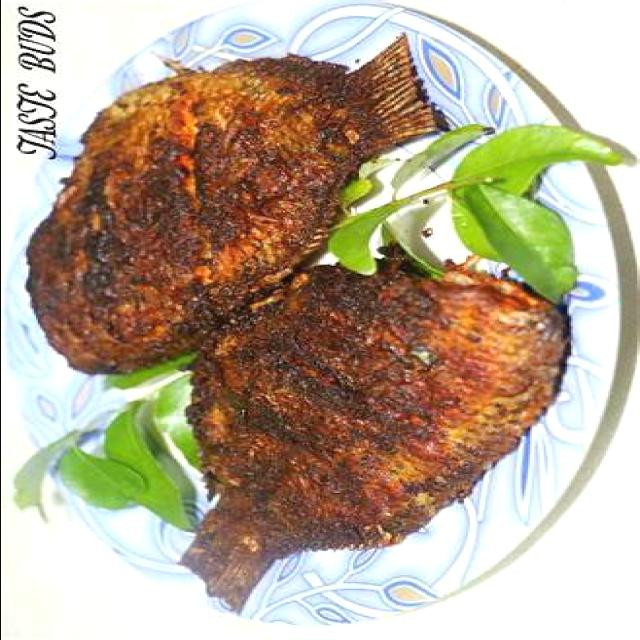ikan bakar: (183, 247, 570, 616), (25, 38, 445, 377)
